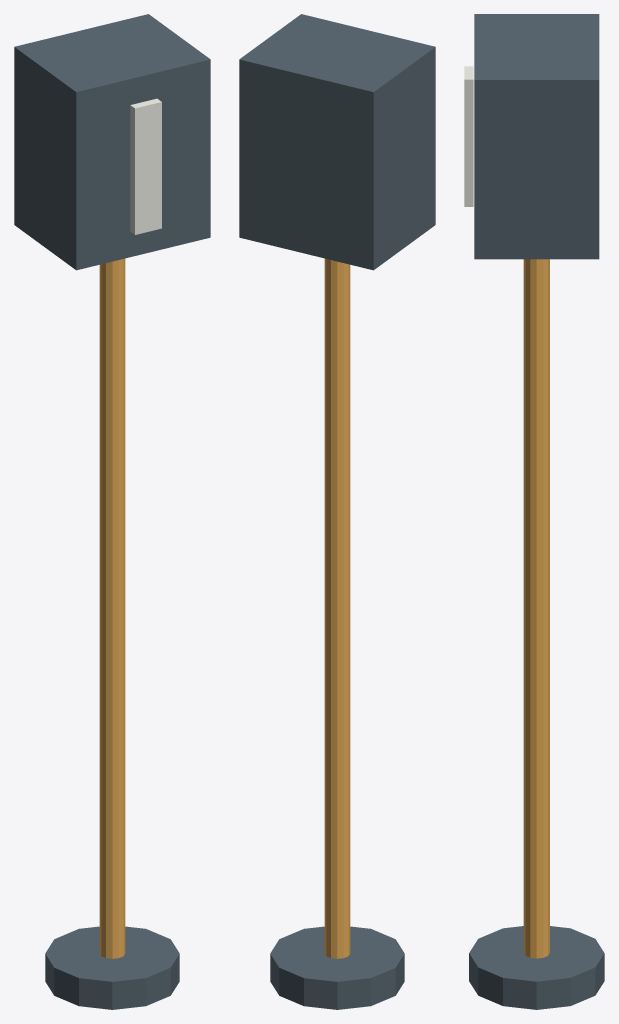
The model's file is american-football-stadium-kit-down-marker-7603244f__22329.glb.
3 views of the same model, side by side, from view 1: azimuth 30°, elevation 25°; view 2: azimuth 150°, elevation 25°; view 3: azimuth 270°, elevation 25° (orthographic).
Parts seen in each view (by area): view 1: down-marker; view 2: down-marker; view 3: down-marker.
Boxes of the visible parts, x1,y1,x2,y2 form: down-marker: [14, 14, 210, 1009]; down-marker: [239, 14, 435, 1009]; down-marker: [464, 14, 604, 1009].
Bounding box in the file's own units: 0.3 × 1.98 × 0.269.
